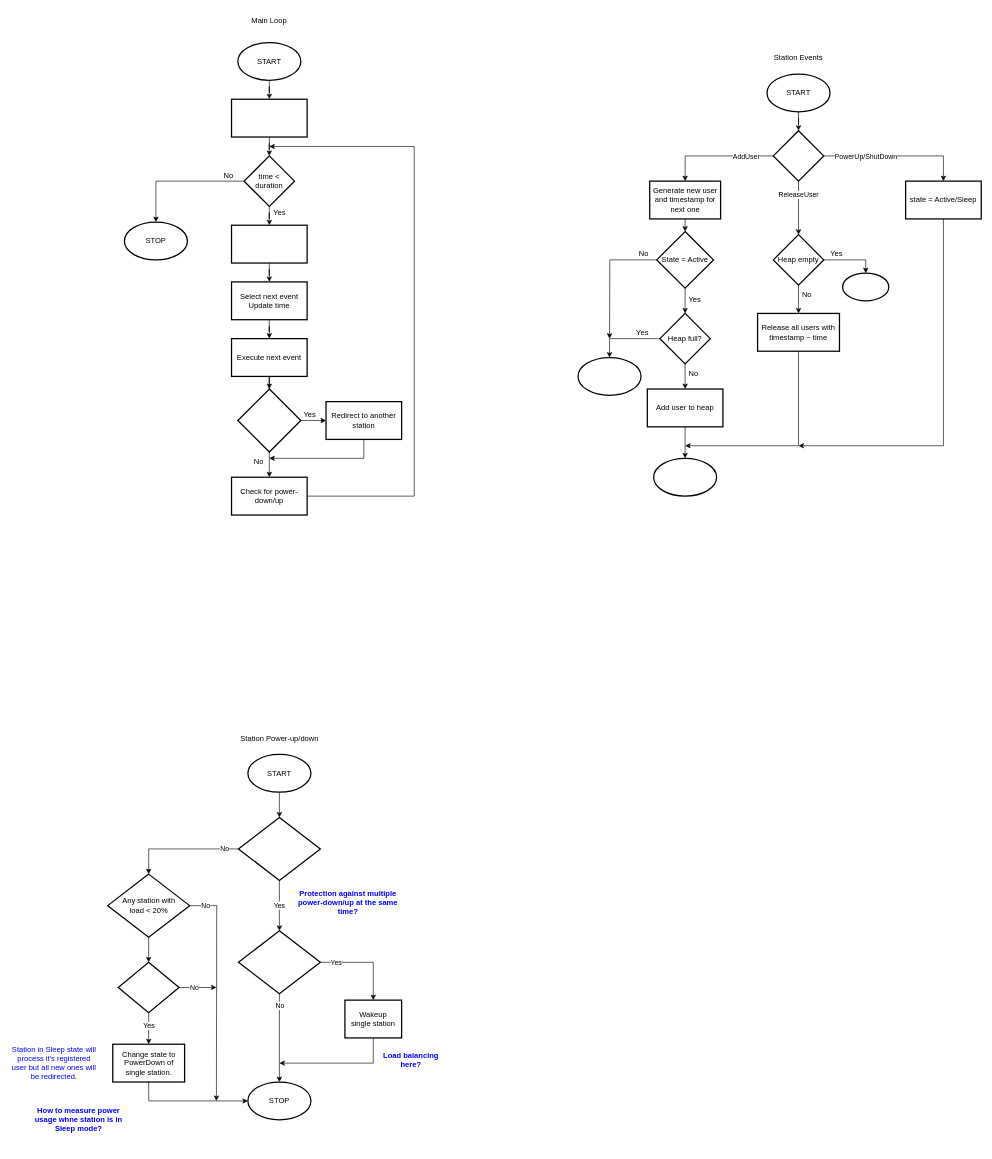
This 992x1159 diagram has some shape labels left out. The centre of each missing label's shape, as x and y in pixels:
"Any active station" belongs at [148,987].
"Any station in sleep state?" belongs at [279,962].
"Any station with load > 80%" belongs at [279,848].
"Event returned User" belongs at [269,420].
"Event type" belongs at [798,155].
"Initialize handlers and simulation state" belongs at [269,117].
"Panic" belongs at [865,286].
"Return None" belongs at [685,476].
"Return user" belongs at [609,376].
"Update lambda" belongs at [269,243].
